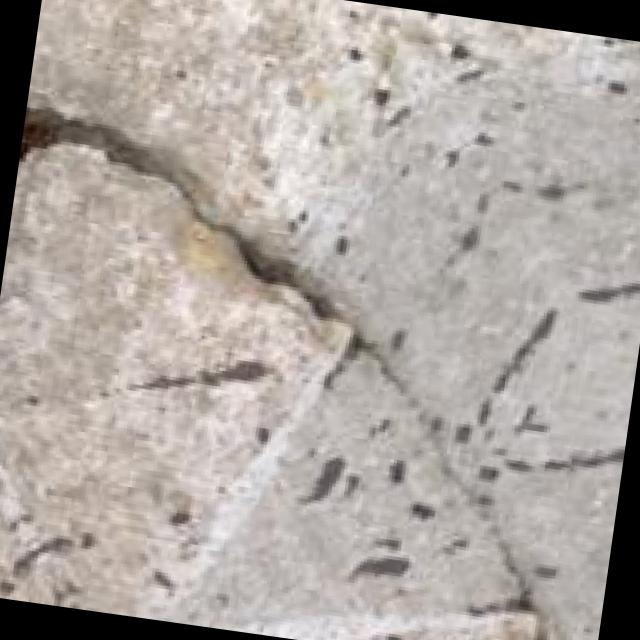crack: (0, 50, 538, 520)
